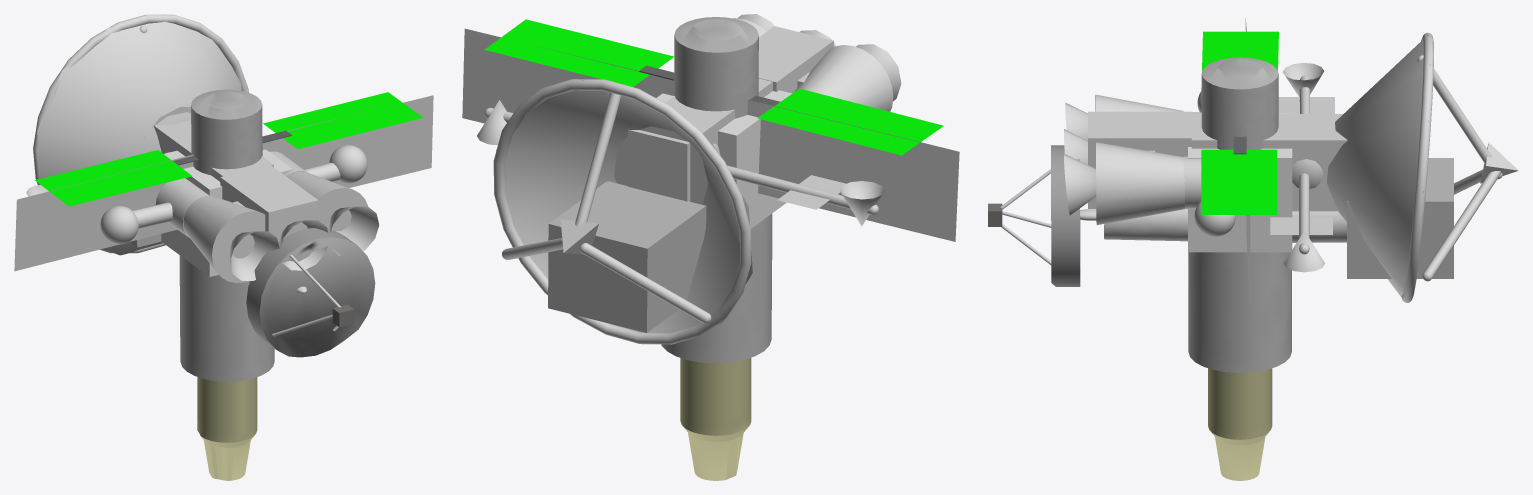
Rendered from satellite_visible.dae.
3 renders of one model, left to right at view 1: azimuth 30°, elevation 25°; view 2: azimuth 150°, elevation 25°; view 3: azimuth 270°, elevation 25°, orthographic. The views are drawn at different scales.
Parts seen in each view (by area): view 1: Cone, Cylinder3, Satellite, Plane.001, Plane1.001, Cylinder, Cylinder7, Plane, Plane1, Cylinder2.001, Box4, Torus (+10 smaller); view 2: Cone, Box2, Plane.001, Torus, Cylinder, Cylinder7, Plane1.001, Plane1, Plane, Satellite, Box.001, Cylinder2.001 (+12 smaller); view 3: Cone, Satellite, Cylinder, Cylinder7, Cylinder3.001, Plane1, Box2, Box.001, Box4, Cube, Cylinder3, Torus (+18 smaller).
Boxes of the visible parts, x1=… form: Cone: x1=37, y1=14, x2=241, y2=255; Cylinder3: x1=246, y1=228, x2=375, y2=357; Satellite: x1=179, y1=255, x2=274, y2=381; Plane.001: x1=14, y1=154, x2=193, y2=271; Plane1.001: x1=262, y1=95, x2=433, y2=187; Cylinder: x1=191, y1=89, x2=262, y2=175; Cylinder7: x1=197, y1=377, x2=257, y2=480; Plane: x1=35, y1=150, x2=192, y2=206; Plane1: x1=263, y1=92, x2=422, y2=148; Cylinder2.001: x1=183, y1=195, x2=265, y2=283; Box4: x1=220, y1=165, x2=318, y2=241; Torus: x1=33, y1=14, x2=248, y2=253; Cone: x1=496, y1=80, x2=752, y2=333; Box2: x1=548, y1=181, x2=706, y2=332; Plane.001: x1=747, y1=99, x2=959, y2=241; Torus: x1=493, y1=79, x2=751, y2=344; Cylinder: x1=674, y1=17, x2=758, y2=118; Cylinder7: x1=680, y1=358, x2=751, y2=480; Plane1.001: x1=462, y1=28, x2=674, y2=123; Plane1: x1=484, y1=19, x2=673, y2=86; Plane: x1=757, y1=88, x2=943, y2=155; Satellite: x1=661, y1=213, x2=772, y2=363; Box.001: x1=628, y1=78, x2=772, y2=201; Cylinder2.001: x1=794, y1=45, x2=893, y2=111; Cone: x1=1326, y1=35, x2=1430, y2=297; Satellite: x1=1188, y1=252, x2=1291, y2=372; Cylinder: x1=1201, y1=57, x2=1278, y2=149; Cylinder7: x1=1208, y1=368, x2=1272, y2=480; Cylinder3.001: x1=1096, y1=142, x2=1184, y2=224; Plane1: x1=1201, y1=149, x2=1277, y2=214; Box2: x1=1347, y1=158, x2=1453, y2=278; Box.001: x1=1191, y1=114, x2=1347, y2=211; Box4: x1=1088, y1=111, x2=1192, y2=208; Cube: x1=1188, y1=113, x2=1292, y2=252; Cylinder3: x1=1051, y1=145, x2=1080, y2=286; Torus: x1=1401, y1=32, x2=1433, y2=302.
Bounding box in the file's own units: 9.99 × 10.18 × 9.
